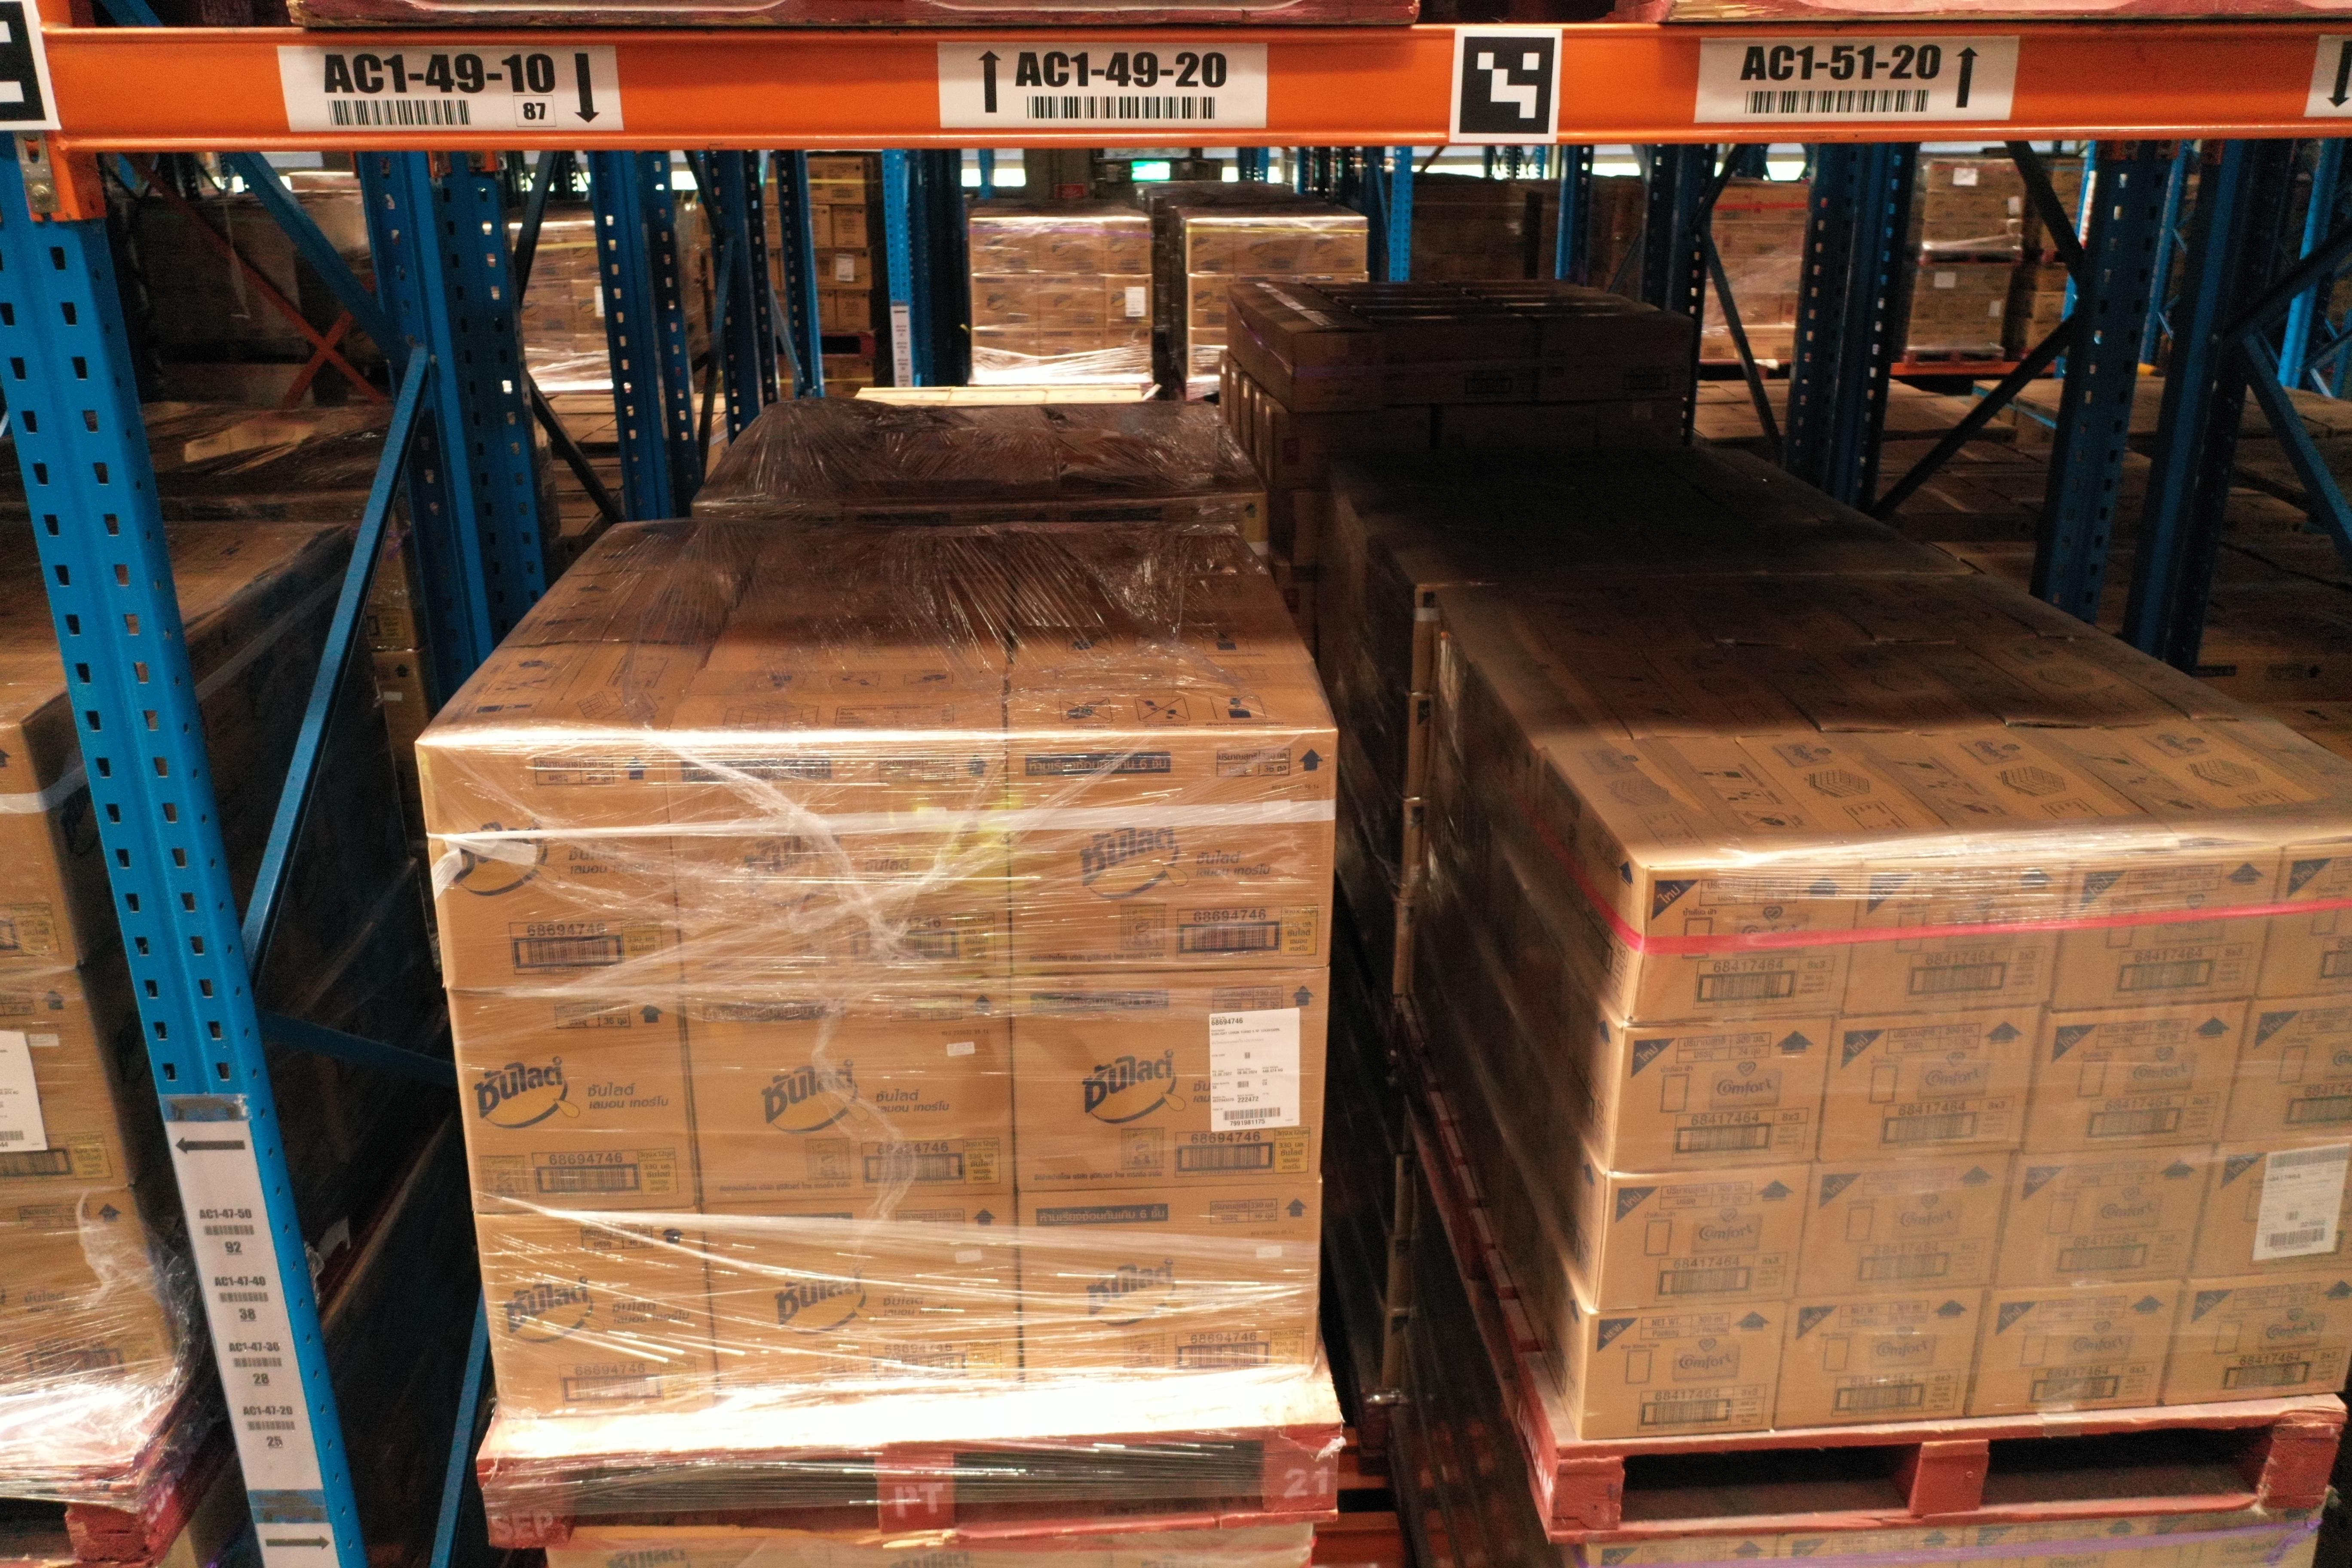-: (667, 742, 1010, 992), (1008, 731, 1339, 980), (681, 973, 1017, 1207), (1008, 968, 1330, 1199), (703, 1193, 1024, 1412), (415, 738, 686, 990), (1015, 1179, 1321, 1388), (444, 989, 698, 1218), (472, 1206, 716, 1423), (0, 1181, 178, 1403), (2051, 847, 2282, 1017), (1629, 861, 1864, 1027), (1841, 856, 2074, 1020), (2023, 999, 2254, 1158), (1818, 1010, 2047, 1167), (1610, 1018, 1836, 1176), (1991, 1143, 2217, 1293), (1969, 1270, 2194, 1419), (1790, 1151, 2018, 1298), (1594, 1165, 1811, 1319), (1771, 1288, 1986, 1431), (0, 962, 129, 1193), (1582, 1302, 1790, 1445), (2161, 1263, 2352, 1407), (2186, 1137, 2352, 1279), (0, 719, 82, 969), (2224, 990, 2352, 1148), (2259, 836, 2352, 1004)
2: (1536, 317, 1692, 406), (1381, 322, 1538, 408), (1291, 325, 1386, 415)
